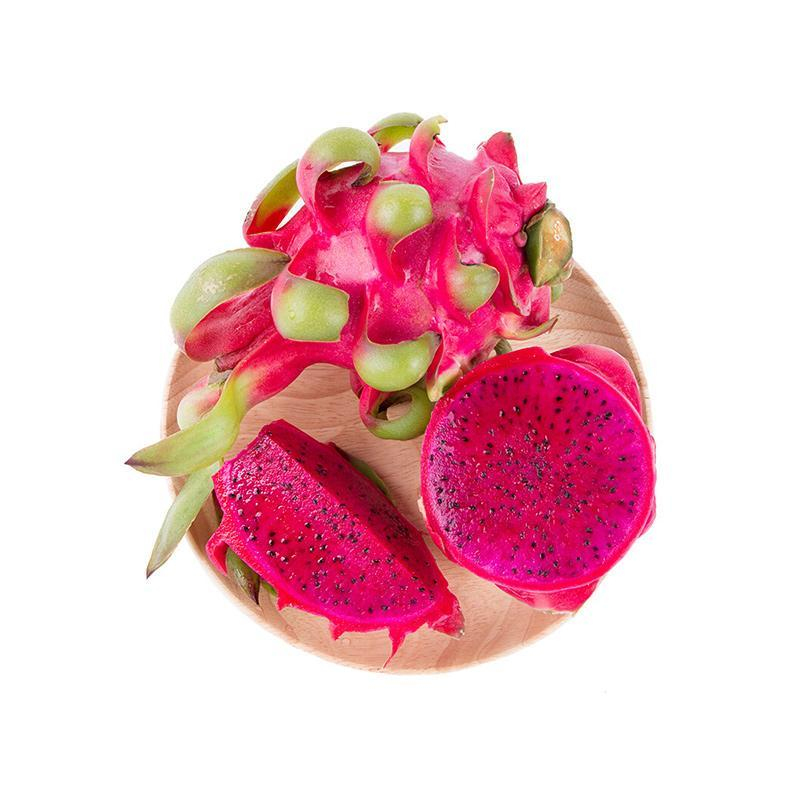dragon-fruit: (250, 150, 553, 381), (417, 345, 659, 594), (211, 417, 449, 635)
